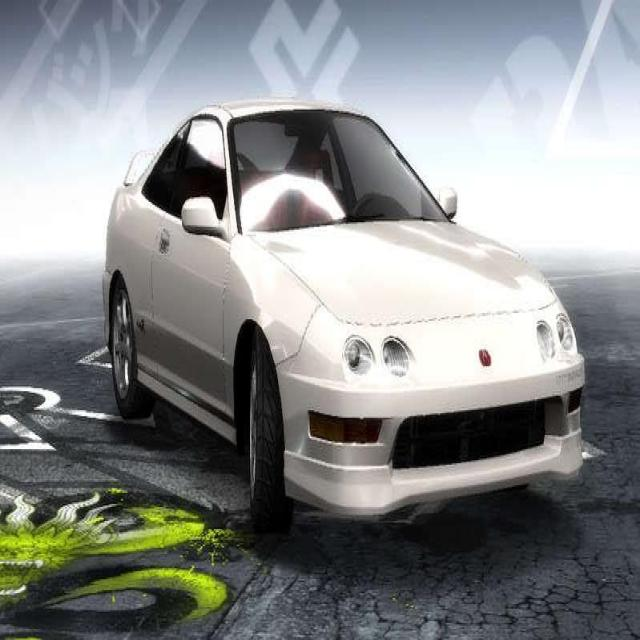Car: (95, 81, 582, 542)
